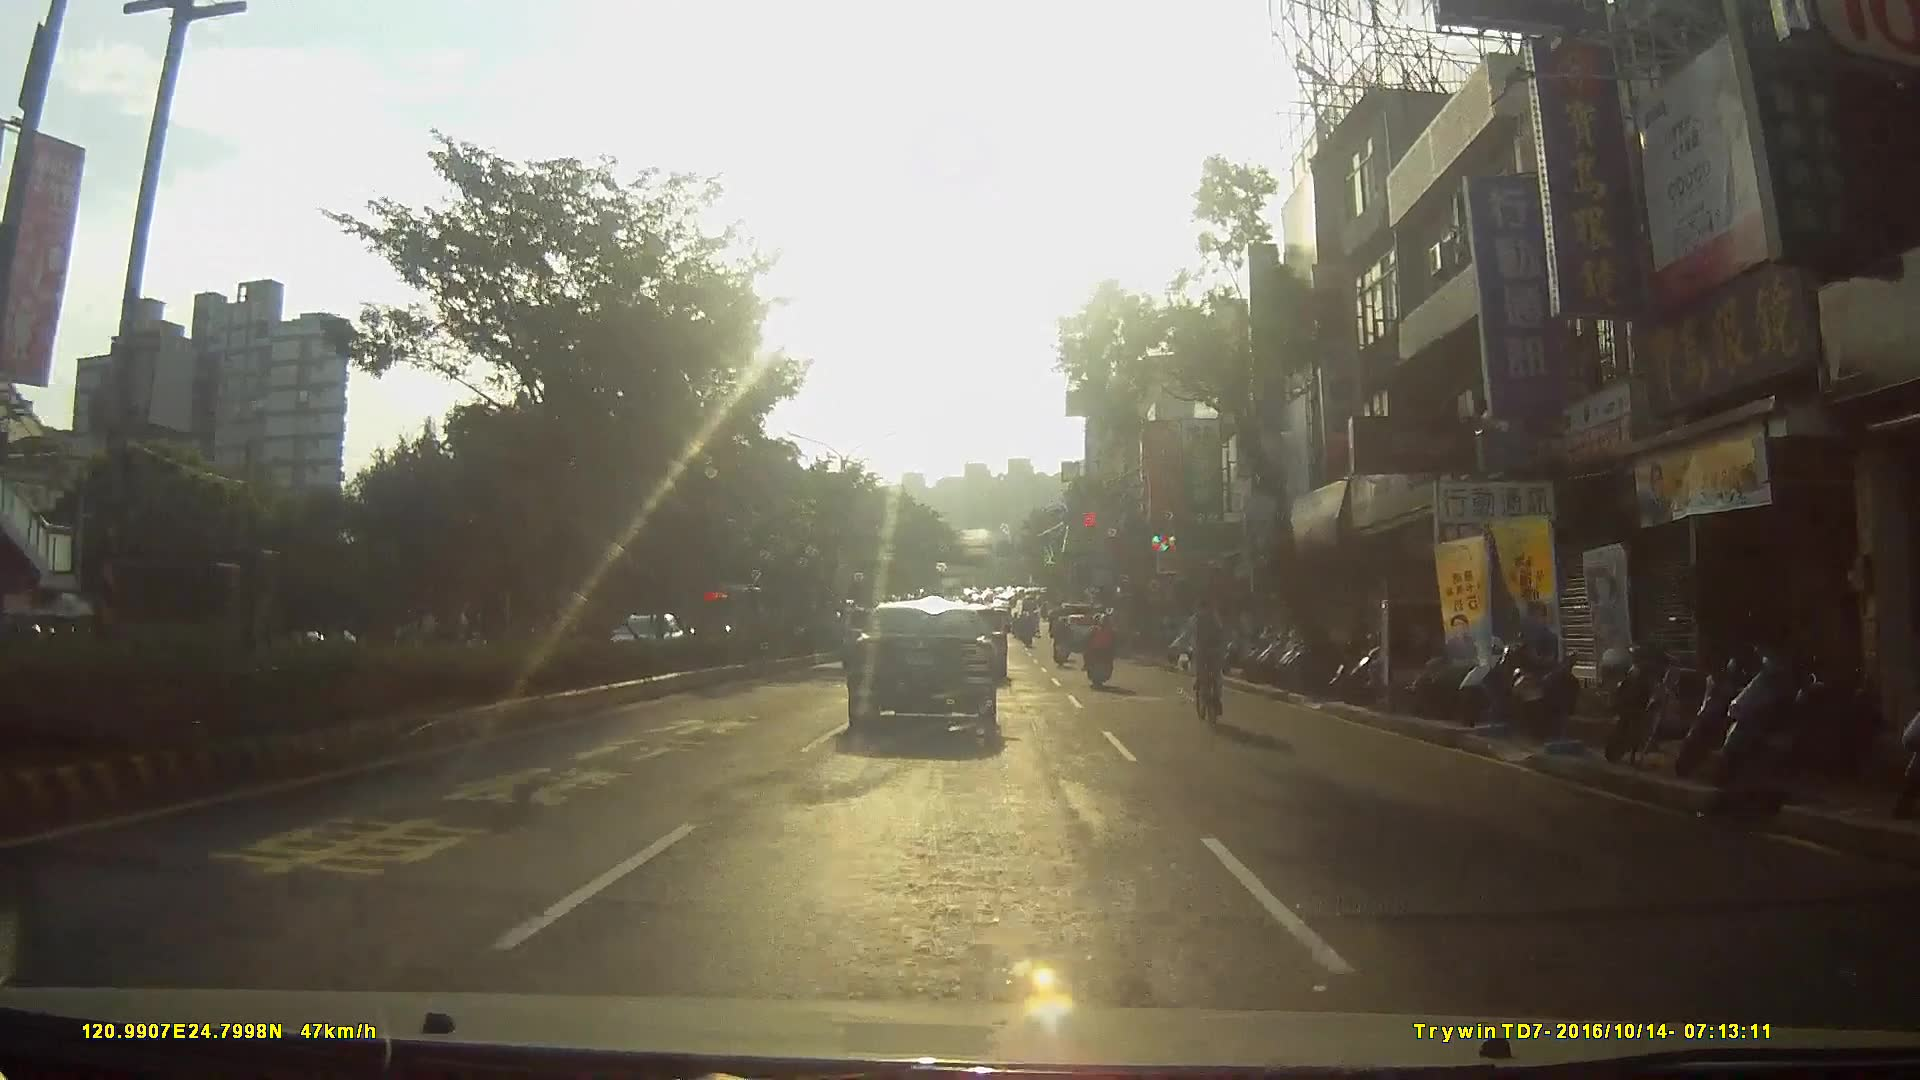rider: (1181, 590, 1242, 730), (1083, 612, 1117, 688), (1051, 615, 1073, 670)
vehicle: (845, 606, 1011, 753)
